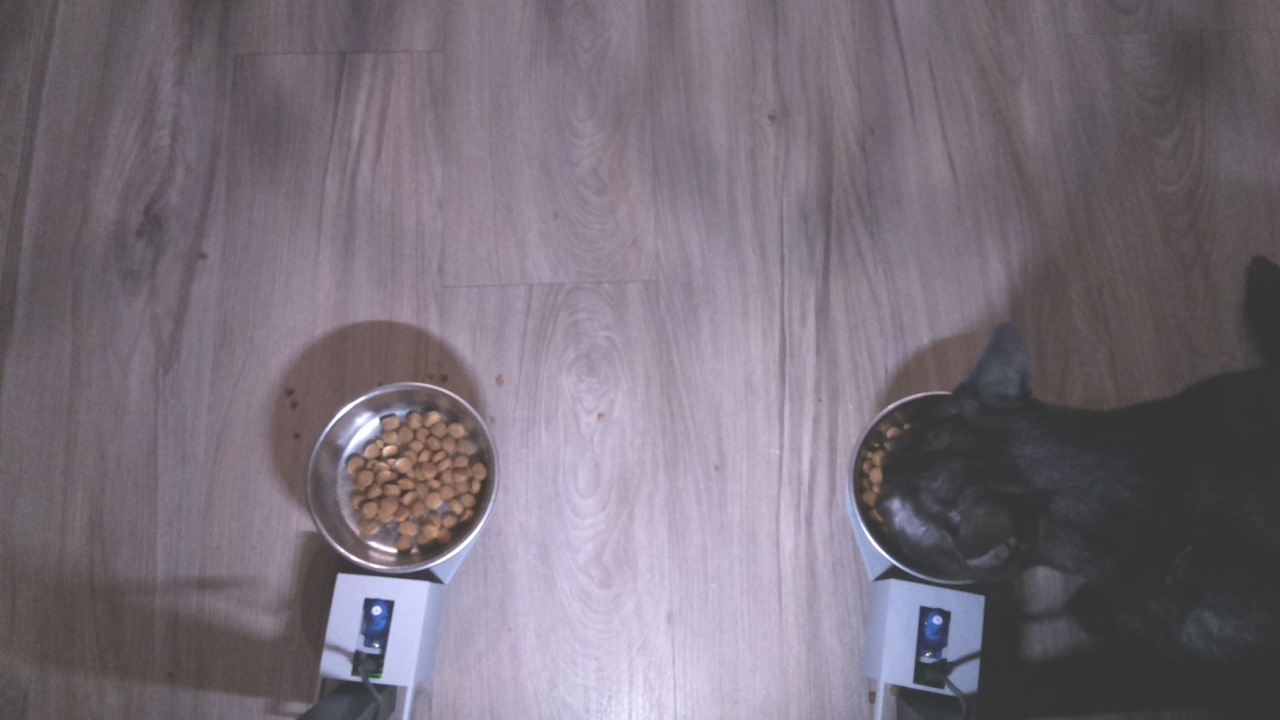open_bowl: (306, 377, 505, 579)
saki_eating: (843, 313, 1108, 611)
